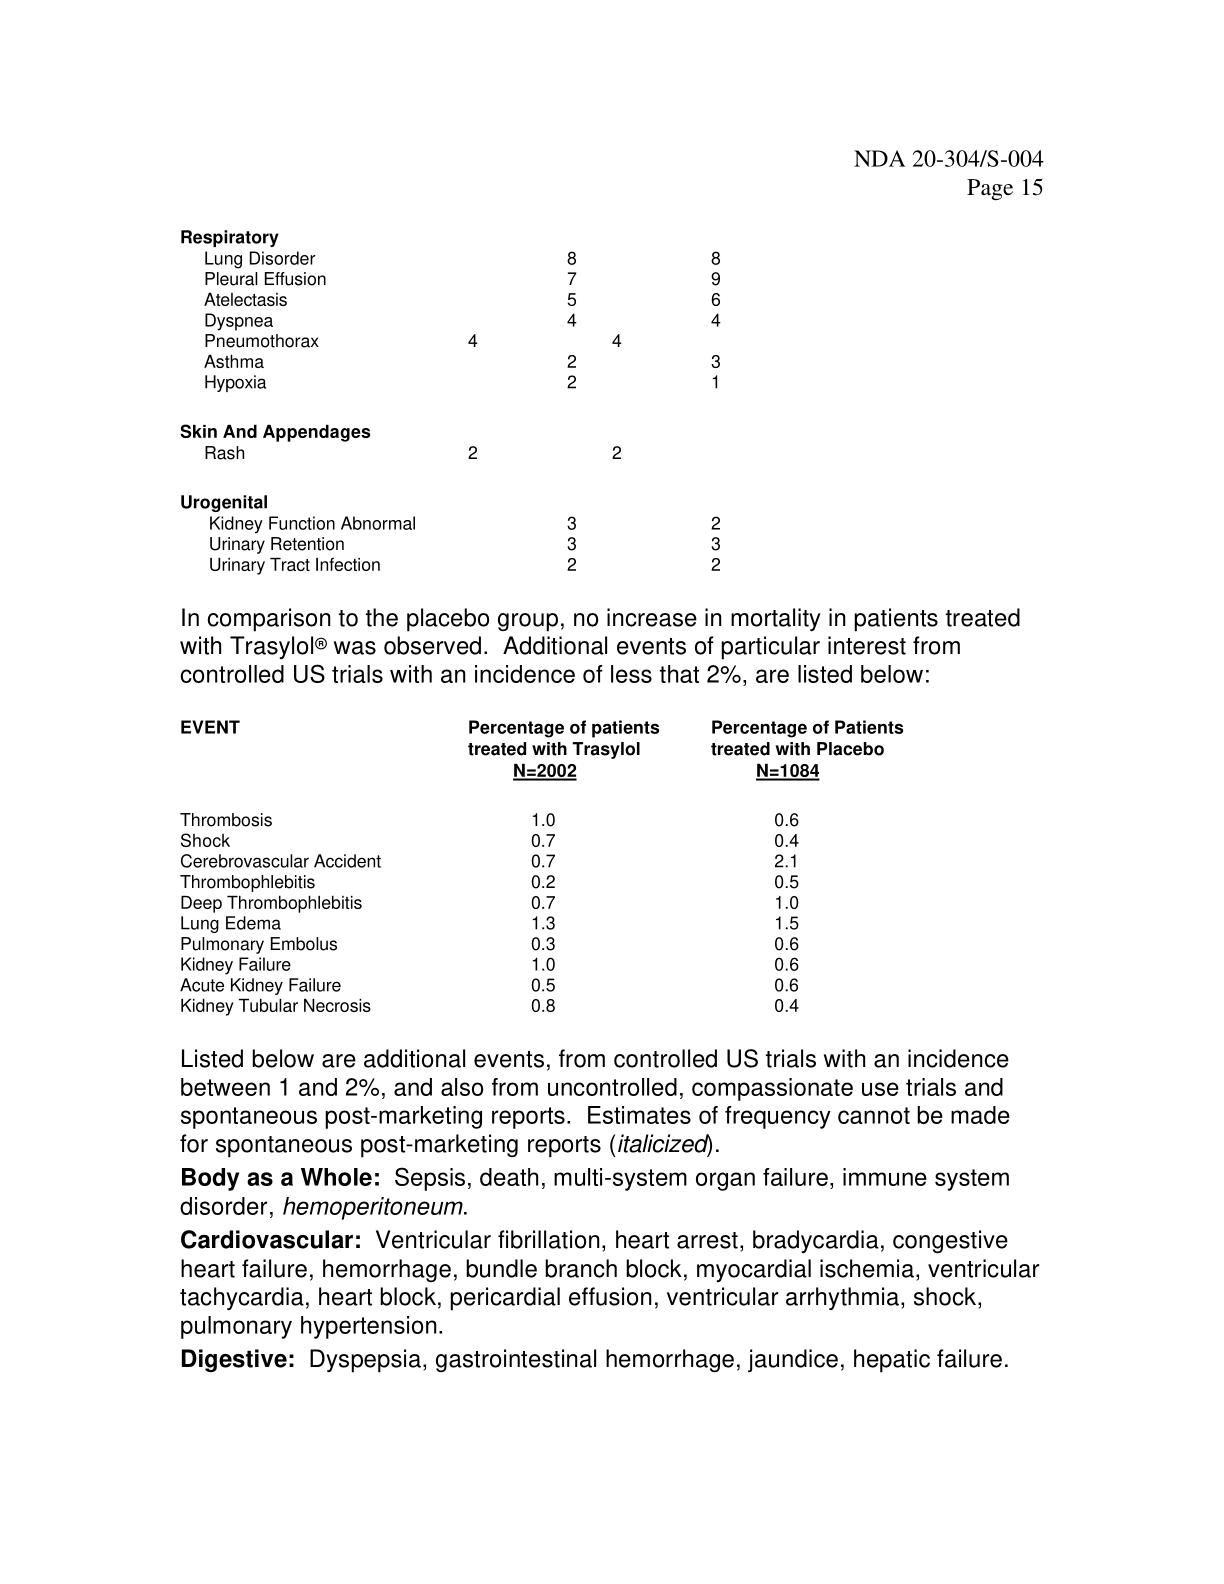nolines: (180, 716, 903, 1016), (177, 226, 726, 573)
